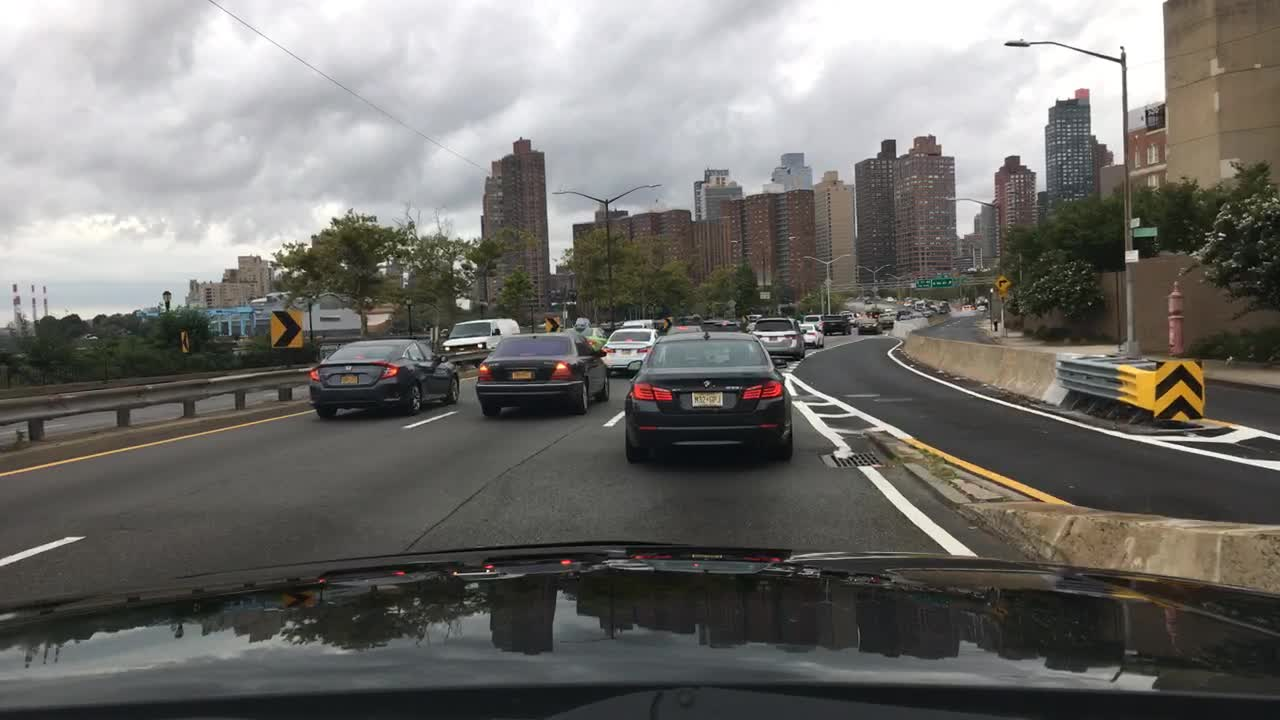bus: (975, 296, 988, 314)
car: (618, 331, 794, 461), (306, 336, 462, 422), (472, 333, 611, 416), (598, 326, 653, 374), (751, 315, 808, 358), (566, 316, 606, 350), (825, 311, 852, 341), (662, 323, 706, 340), (801, 323, 827, 348), (852, 316, 880, 336), (621, 318, 662, 331), (709, 319, 741, 333), (880, 314, 894, 329), (902, 311, 923, 321), (960, 303, 974, 314), (925, 305, 937, 316)
traffic sign: (269, 308, 306, 348), (1130, 227, 1159, 237), (544, 316, 561, 333), (930, 278, 954, 289), (178, 331, 188, 353), (994, 277, 1010, 289), (915, 277, 930, 289), (1124, 250, 1137, 262), (662, 316, 673, 330), (1130, 219, 1140, 228)
truck: (441, 314, 520, 360)
